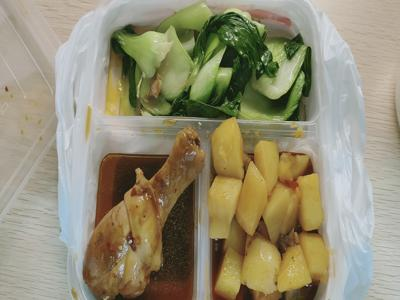bc: (105, 5, 316, 123)
jrtd: (206, 121, 344, 299)
jt: (82, 127, 210, 300)
